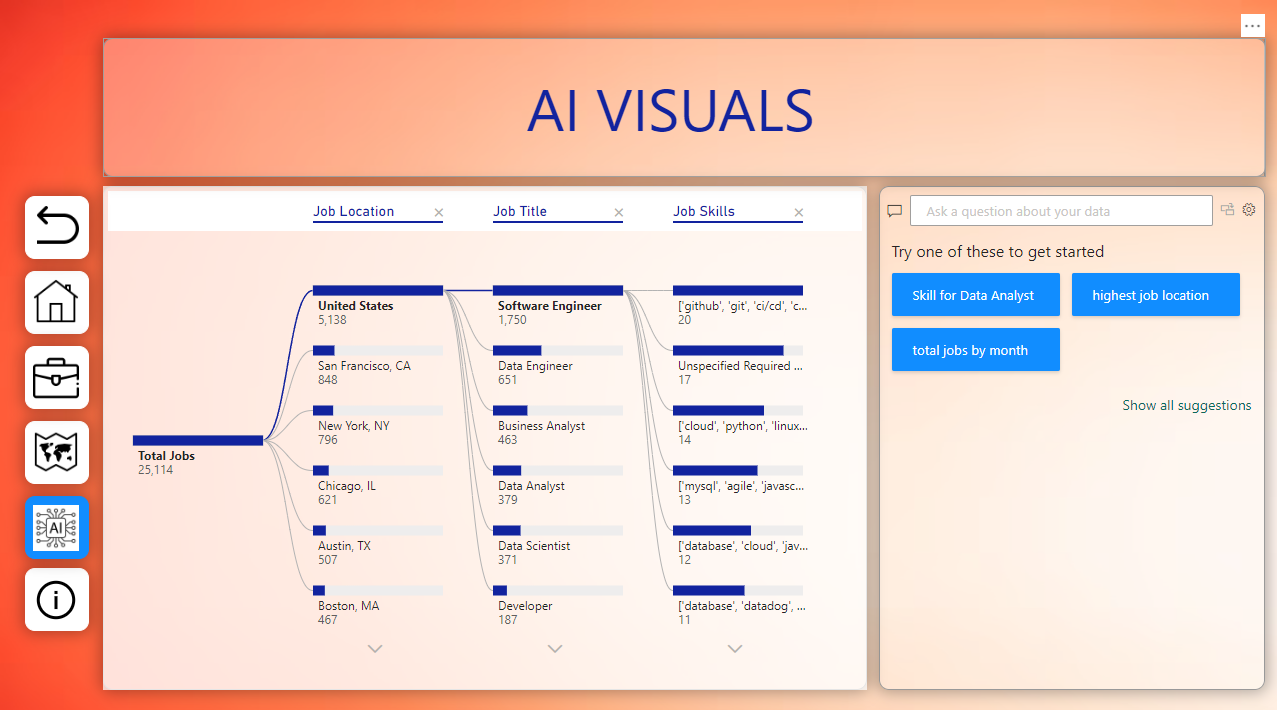

What the dashboard file says about the page in this screenshot:
{"tool":"powerbi","page":{"name":"Ai Visulas","canvas":[1280,720],"ordinal":3},"visuals":[{"type":"shape","box":[880.9,186.4,386.4,503.6],"z":0},{"type":"shape","box":[27.3,495.7,63.8,63],"z":0,"group":"g3"},{"type":"shape","box":[27,567.5,63.6,62.7],"z":0,"group":"g1"},{"type":"shape","box":[104.5,186.4,764.5,503.6],"z":1000},{"type":"shape","box":[27.3,420.8,63.8,63],"z":1000,"group":"g4"},{"type":"actionButton","box":[33.3,574,50,51],"z":1000,"group":"g1"},{"type":"shape","box":[104.5,38.2,1162.7,139.1],"z":2000,"group":"g2"},{"type":"shape","box":[27.3,345.8,63.8,63],"z":2000,"group":"g7"},{"type":"group","id":"g1","title":"Group 15","box":[27,567.5,63.6,62.7],"z":2000},{"type":"decompositionTreeVisual","fields":{"Analyze":["_Measure.Total Jobs"],"ExplainBy":["job_postings.Job Location","job_postings.Job Title","job_postings.Job Skills"]},"box":[104.6,186.2,764.3,503.6],"z":3000},{"type":"shape","box":[27.3,270.9,63.8,63],"z":3000,"group":"g5"},{"type":"qnaVisual","box":[880.9,186.4,386.4,503.6],"z":4000},{"type":"shape","box":[27.3,196,63.8,63],"z":4000,"group":"g6"},{"type":"group","id":"g2","title":"Group 1","box":[104.5,38.2,1162.7,139.1],"z":5000},{"type":"textbox","box":[523.6,63.7,357.3,92.7],"z":5000,"group":"g2"},{"type":"group","id":"g3","title":"Group 9","box":[27.3,495.7,63.8,63],"z":6000},{"type":"group","id":"g4","title":"Group 10","box":[27.3,420.8,63.8,63],"z":7000},{"type":"group","id":"g5","title":"Group 12","box":[27.3,270.9,63.8,137.9],"z":8000},{"type":"group","id":"g6","title":"Group 2","box":[27.3,196,63.8,63],"z":9000},{"type":"actionButton","box":[31.3,350.3,58.2,54.1],"z":21000,"group":"g7"},{"type":"image","box":[32.2,201.1,55.6,52.2],"z":22000,"group":"g6"},{"type":"actionButton","box":[31.5,425.3,58,54],"z":24000,"group":"g4"},{"type":"actionButton","box":[31.5,275.2,58,54],"z":25000,"group":"g5"},{"type":"actionButton","box":[31.5,500.2,58,54],"z":26000,"group":"g3"},{"type":"group","id":"g7","title":"Group 11","box":[27.3,345.8,63.8,63],"z":26003,"group":"g5"}]}

Visuals, with their boxes on the page's 1280x720 design canvas (x1, y1, x2, y2). These are canvas units, not pixel positions in the 1277x710 screenshot, which may show the page scaled, cropped or inside an application window:
shape: {"left": 881, "top": 186, "right": 1267, "bottom": 690}
shape: {"left": 27, "top": 496, "right": 91, "bottom": 559}
shape: {"left": 27, "top": 568, "right": 91, "bottom": 630}
shape: {"left": 104, "top": 186, "right": 869, "bottom": 690}
shape: {"left": 27, "top": 421, "right": 91, "bottom": 484}
actionButton: {"left": 33, "top": 574, "right": 83, "bottom": 625}
shape: {"left": 104, "top": 38, "right": 1267, "bottom": 177}
shape: {"left": 27, "top": 346, "right": 91, "bottom": 409}
"Group 15" group: {"left": 27, "top": 568, "right": 91, "bottom": 630}
decompositionTreeVisual - _Measure.Total Jobs x job_postings.Job Location: {"left": 105, "top": 186, "right": 869, "bottom": 690}
shape: {"left": 27, "top": 271, "right": 91, "bottom": 334}
qnaVisual: {"left": 881, "top": 186, "right": 1267, "bottom": 690}
shape: {"left": 27, "top": 196, "right": 91, "bottom": 259}
"Group 1" group: {"left": 104, "top": 38, "right": 1267, "bottom": 177}
textbox: {"left": 524, "top": 64, "right": 881, "bottom": 156}
"Group 9" group: {"left": 27, "top": 496, "right": 91, "bottom": 559}
"Group 10" group: {"left": 27, "top": 421, "right": 91, "bottom": 484}
"Group 12" group: {"left": 27, "top": 271, "right": 91, "bottom": 409}
"Group 2" group: {"left": 27, "top": 196, "right": 91, "bottom": 259}
actionButton: {"left": 31, "top": 350, "right": 90, "bottom": 404}
image: {"left": 32, "top": 201, "right": 88, "bottom": 253}
actionButton: {"left": 32, "top": 425, "right": 90, "bottom": 479}
actionButton: {"left": 32, "top": 275, "right": 90, "bottom": 329}
actionButton: {"left": 32, "top": 500, "right": 90, "bottom": 554}
"Group 11" group: {"left": 27, "top": 346, "right": 91, "bottom": 409}
